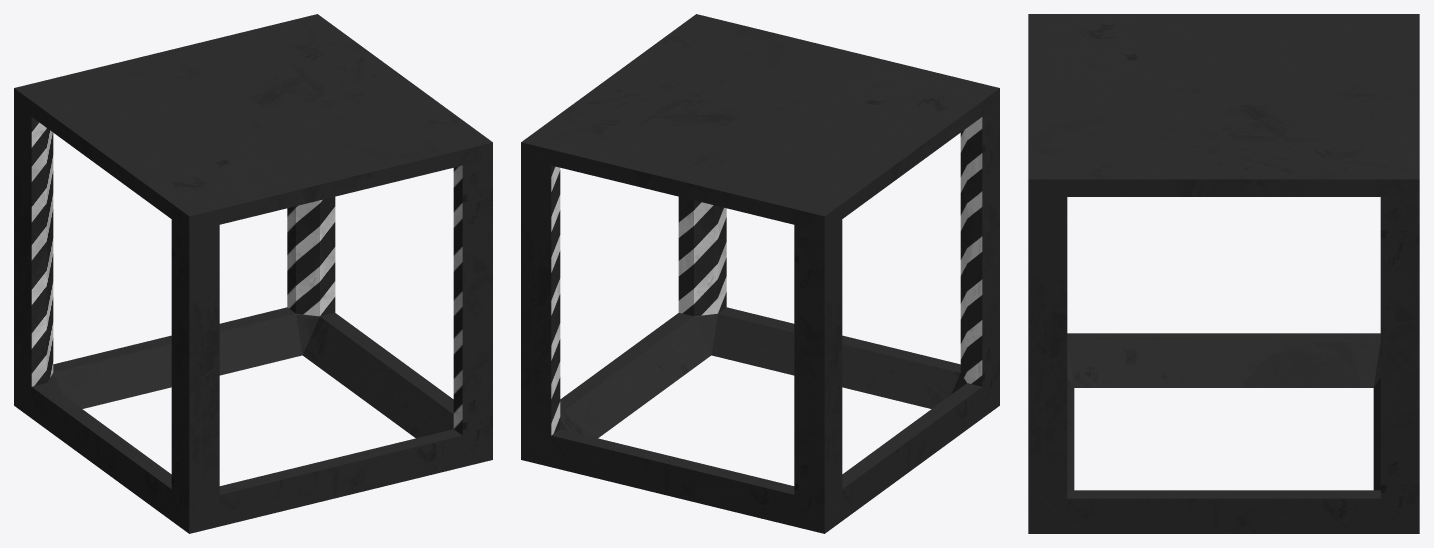
File: tutTrapFrame.obj
The picture shows the model from 3 angles, left to right: view 1: azimuth 30°, elevation 25°; view 2: azimuth 150°, elevation 25°; view 3: azimuth 270°, elevation 25°; orthographic projection. The views are drawn at different scales.
Parts seen in each view (by area): view 1: Mesh1 initialShadingGroup1 polySurface2 polySurface3 polySurface; view 2: Mesh1 initialShadingGroup1 polySurface2 polySurface3 polySurface; view 3: Mesh1 initialShadingGroup1 polySurface2 polySurface3 polySurface.
Boxes of the visible parts, <box> form: Mesh1 initialShadingGroup1 polySurface2 polySurface3 polySurface: <box>14,14,492,533</box>; Mesh1 initialShadingGroup1 polySurface2 polySurface3 polySurface: <box>521,14,999,533</box>; Mesh1 initialShadingGroup1 polySurface2 polySurface3 polySurface: <box>1028,14,1419,533</box>.
Bounding box in the file's own units: 2 × 2 × 2.
Materials: 1 (1 with a texture image).
